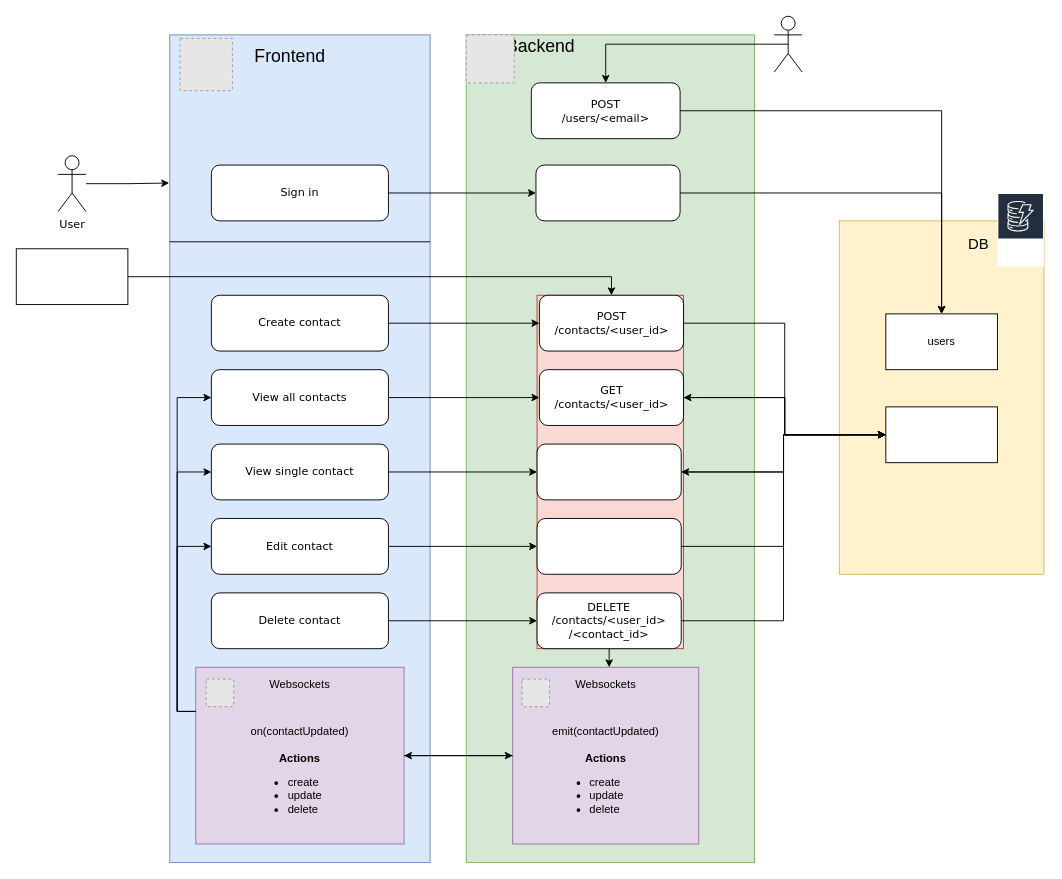
This 1062x879 diagram has some shape labels left out. Grey dashed boxes stand in for pictures. The centre of each missing label's shape, as x and y in pixels:
ADMIN: [787,43]
Amazon DynamoDB: [1020,229]
Changes from outside application: [71,276]
contacts: [941,434]
GET /contacts/<user_id> /<contact_id>: [608,471]
GET /users/<email>: [607,192]
PUT /contacts/<user_id> /<contact_id>: [608,546]
